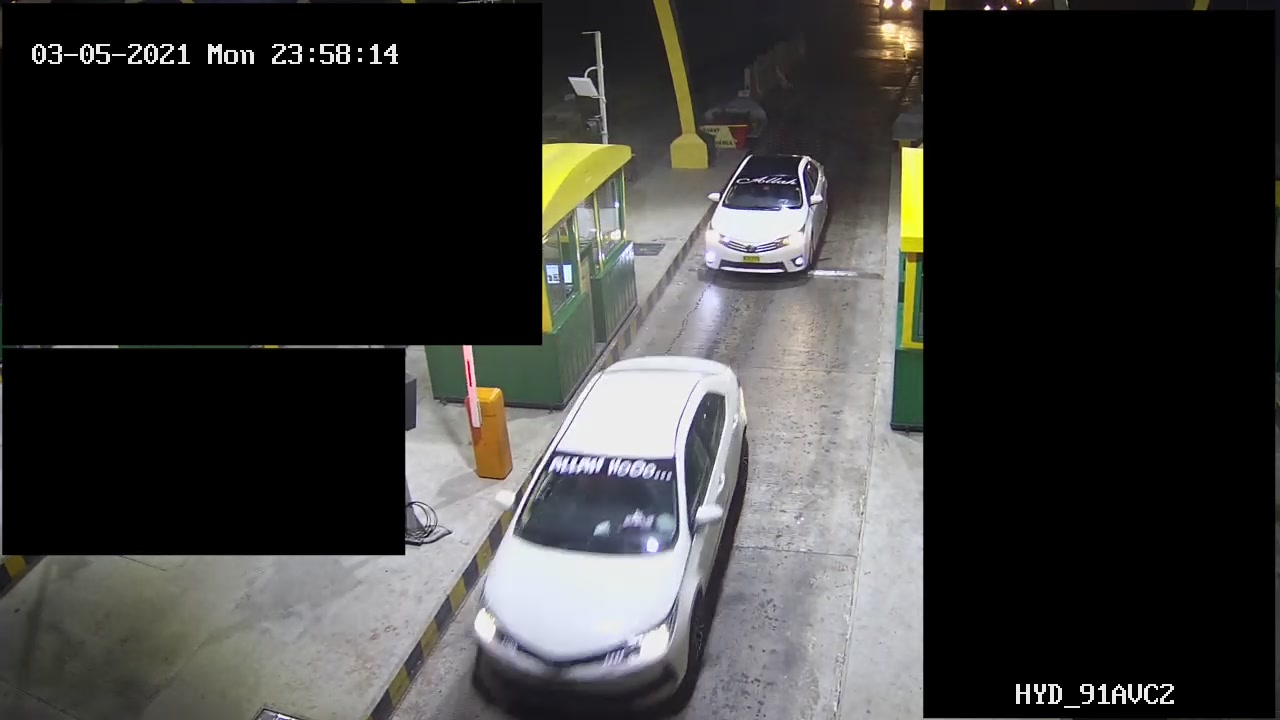F1: (464, 354, 753, 702), (685, 146, 848, 289)
